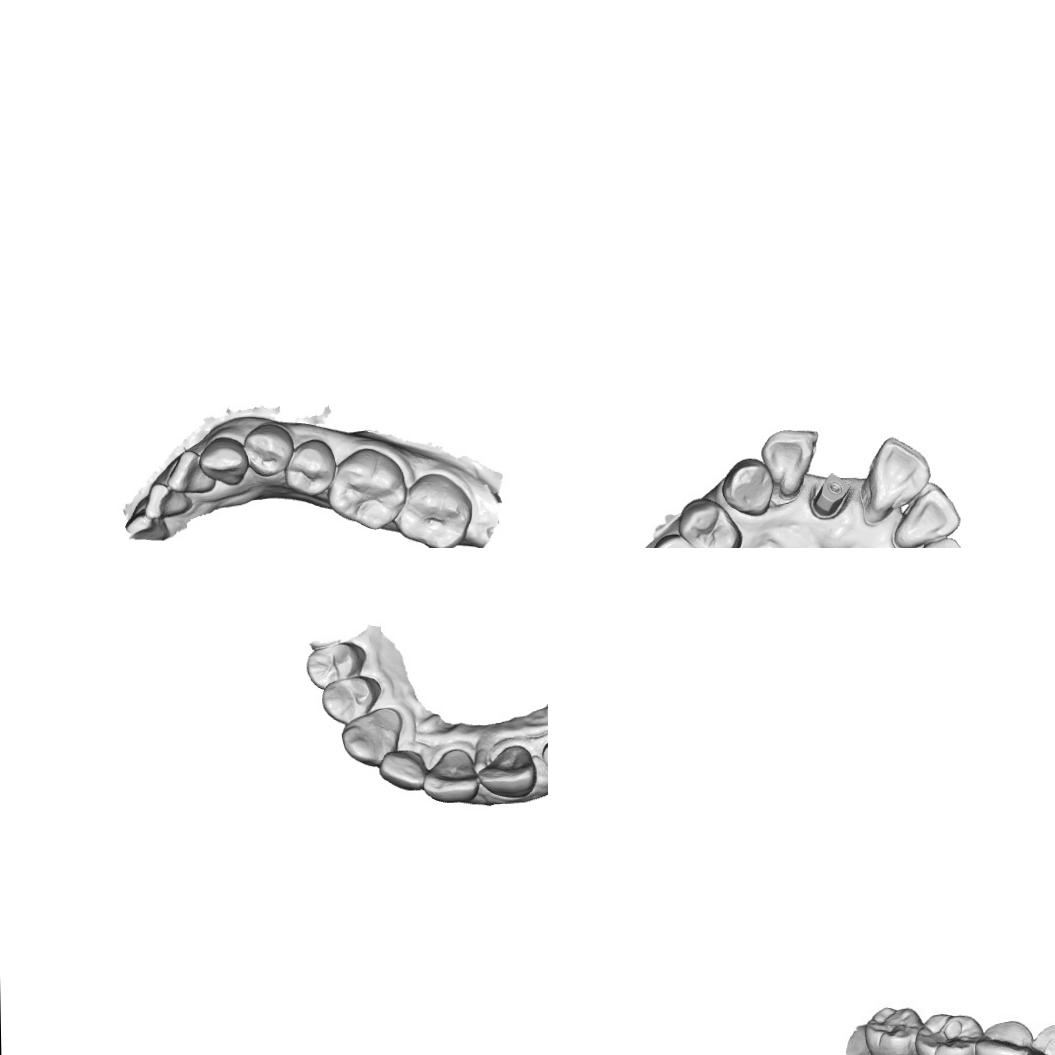canine: (339, 706, 404, 768), (720, 455, 775, 518), (198, 432, 248, 484), (903, 535, 968, 548)
implant: (810, 465, 850, 528)
incisor: (854, 435, 934, 526), (890, 482, 962, 548), (758, 428, 820, 504), (422, 747, 480, 804), (476, 744, 537, 798), (162, 447, 208, 495), (377, 747, 426, 792), (141, 480, 190, 520)
molar: (326, 448, 405, 532), (395, 471, 473, 548), (862, 1005, 924, 1055), (917, 1010, 982, 1055)
premolar: (675, 496, 743, 548), (320, 674, 382, 725), (284, 438, 339, 495), (304, 641, 365, 691), (243, 422, 292, 476), (975, 1016, 1033, 1055), (647, 531, 713, 548), (1025, 1027, 1055, 1055)
